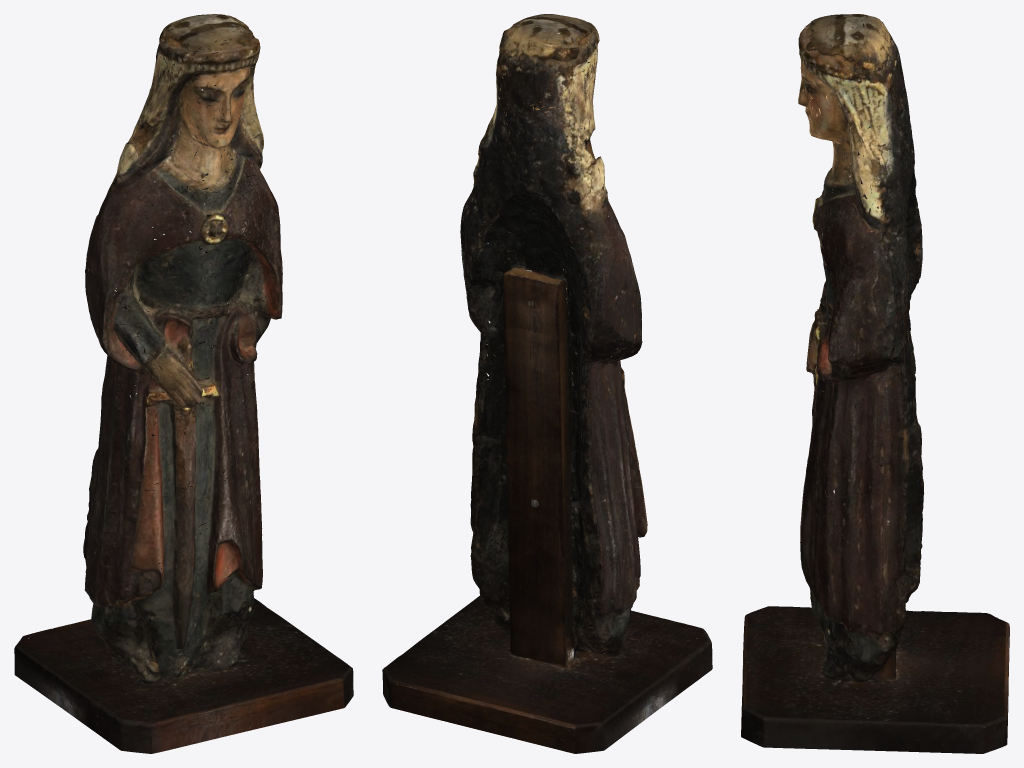
Rendered from scan-catarina.glb.
3 views of the same model, side by side, from view 1: azimuth 30°, elevation 25°; view 2: azimuth 150°, elevation 25°; view 3: azimuth 270°, elevation 25° (orthographic). The views are drawn at different scales.
Visible parts, largest first — view 1: geometry_4, geometry_3, geometry_0, geometry_5, geometry_6, geometry_1, geometry_2; view 2: geometry_6, geometry_1, geometry_2, geometry_0, geometry_5, geometry_3, geometry_4; view 3: geometry_0, geometry_5, geometry_6, geometry_3, geometry_2, geometry_1, geometry_4.
Boxes of the visible parts, x1,y1,x2,y2 form: geometry_4: [83, 19, 282, 683]; geometry_3: [94, 14, 280, 435]; geometry_0: [14, 14, 353, 752]; geometry_5: [86, 186, 282, 677]; geometry_6: [14, 206, 353, 753]; geometry_1: [83, 19, 282, 626]; geometry_2: [85, 14, 261, 671]; geometry_6: [382, 231, 712, 753]; geometry_1: [460, 14, 635, 653]; geometry_2: [460, 24, 628, 654]; geometry_0: [382, 15, 712, 746]; geometry_5: [461, 190, 640, 647]; geometry_3: [475, 15, 640, 479]; geometry_4: [486, 14, 647, 656]; geometry_0: [741, 14, 1009, 749]; geometry_5: [800, 232, 907, 680]; geometry_6: [741, 250, 1009, 753]; geometry_3: [798, 14, 910, 448]; geometry_2: [848, 16, 923, 663]; geometry_1: [802, 17, 924, 592]; geometry_4: [799, 15, 912, 672].
Size of the model in its own units: 0.727 by 2 by 0.7173.
1 material, 1 textured.
